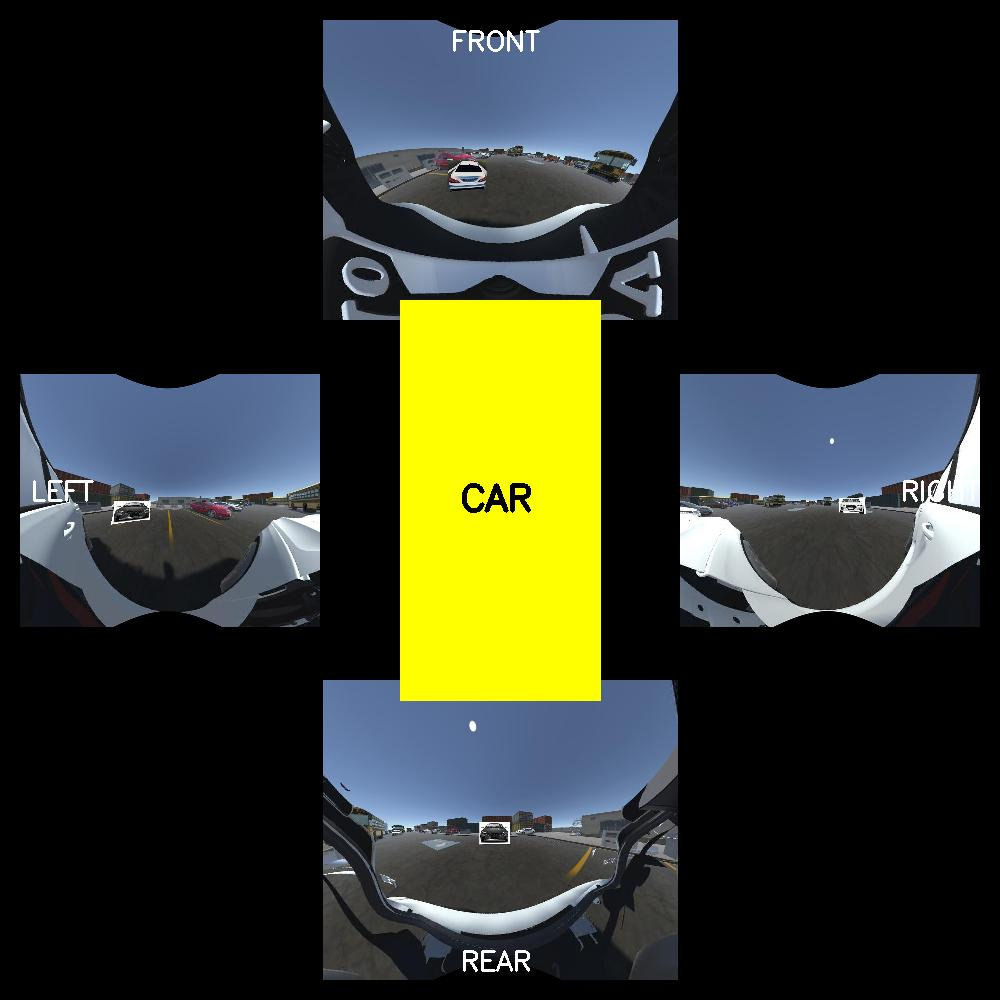Car: (448, 161, 488, 192), (114, 501, 151, 523), (478, 823, 510, 845), (838, 497, 867, 514)
